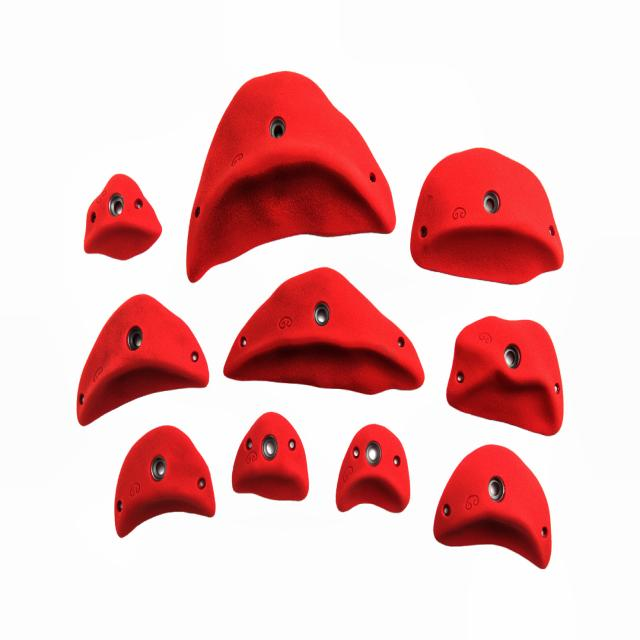Hold: (186, 67, 397, 282), (223, 267, 424, 398), (412, 144, 567, 283), (74, 287, 212, 425), (433, 442, 553, 570), (446, 315, 564, 436), (115, 426, 216, 540), (82, 168, 162, 263), (337, 423, 412, 516), (232, 412, 310, 501)
